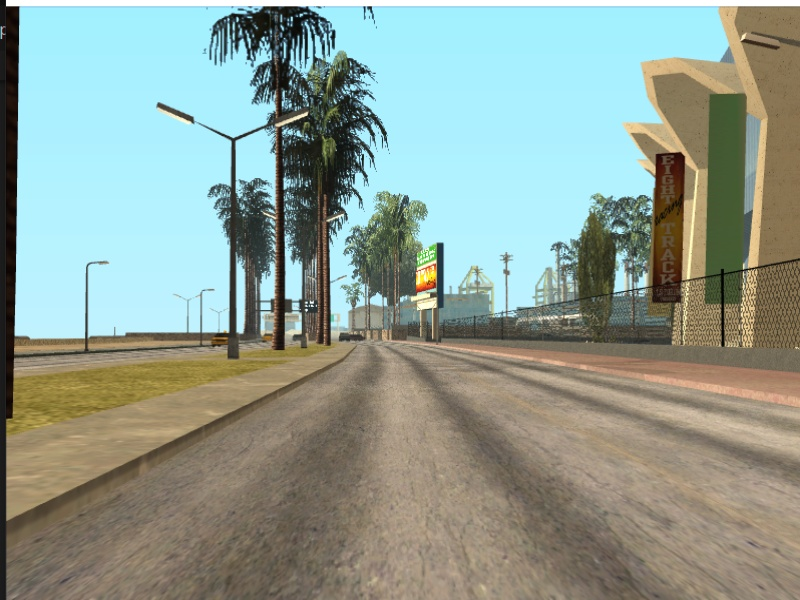pole: (226, 139, 244, 361), (79, 264, 95, 355), (196, 292, 207, 348)
tree: (270, 75, 289, 352), (317, 151, 333, 347)
vehicle: (212, 332, 229, 346)
